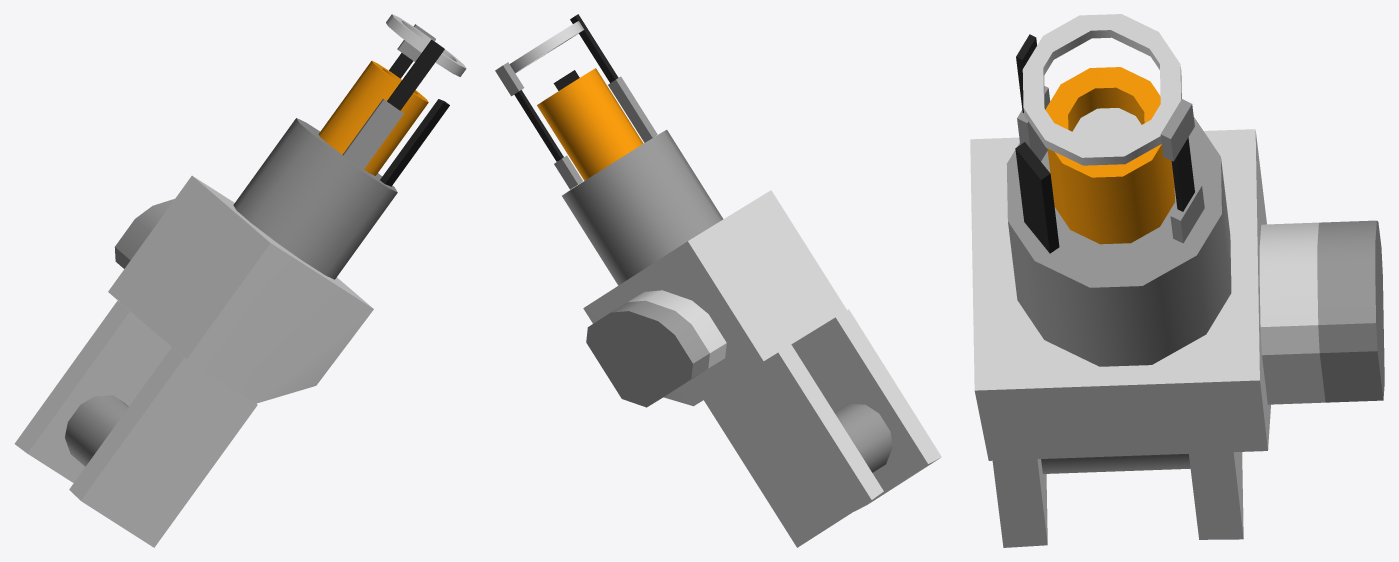
The model's file is pinza.fbx.
3 views of the same model, side by side, from view 1: azimuth 30°, elevation 25°; view 2: azimuth 150°, elevation 25°; view 3: azimuth 270°, elevation 25° (orthographic). The views are drawn at different scales.
Visible parts, largest first — view 1: pinza; view 2: pinza; view 3: pinza.
Part boxes in pixels (bbox=[...]): pinza: bbox=[14, 14, 466, 547]; pinza: bbox=[495, 14, 941, 547]; pinza: bbox=[970, 14, 1384, 547].
Size of the model in its own units: 113 by 116 by 56.94.
